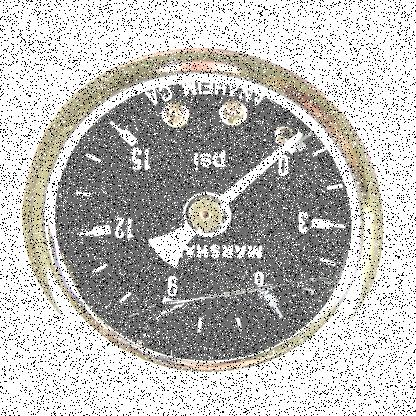needle: (219, 130, 305, 205)
